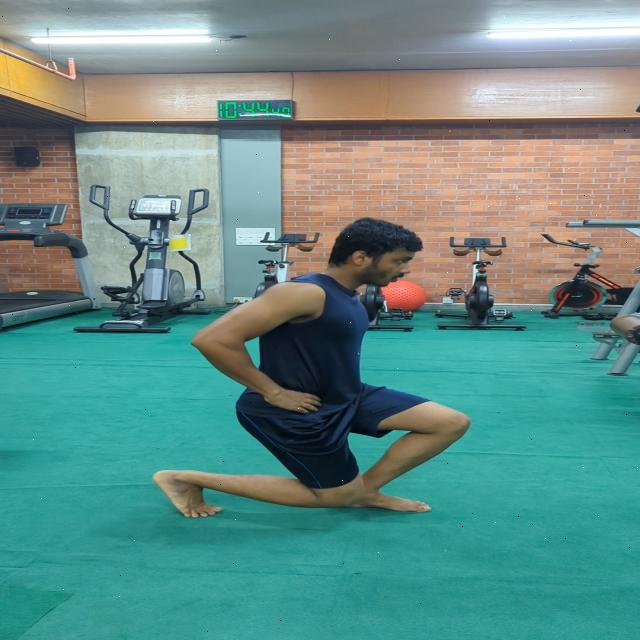Normal_Lunges: (142, 214, 476, 520)
